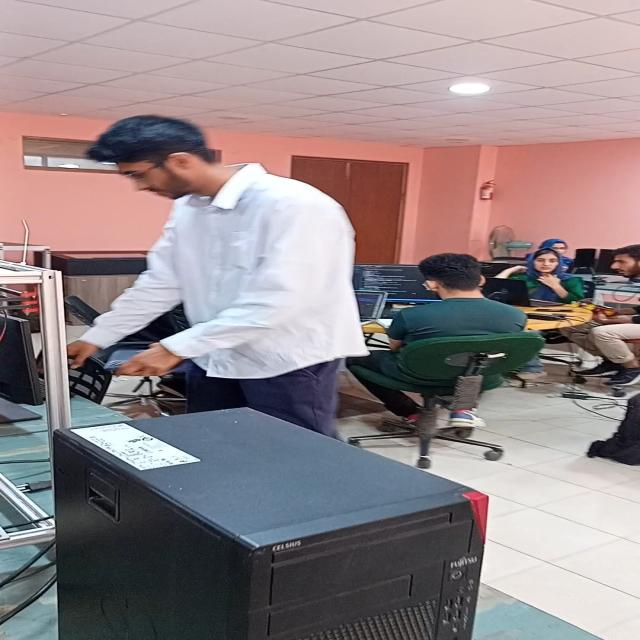dress: (74, 164, 363, 432)
